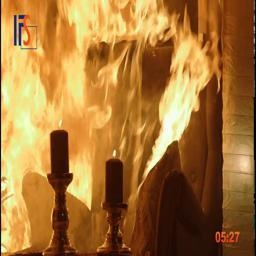fire: (3, 1, 230, 256)
